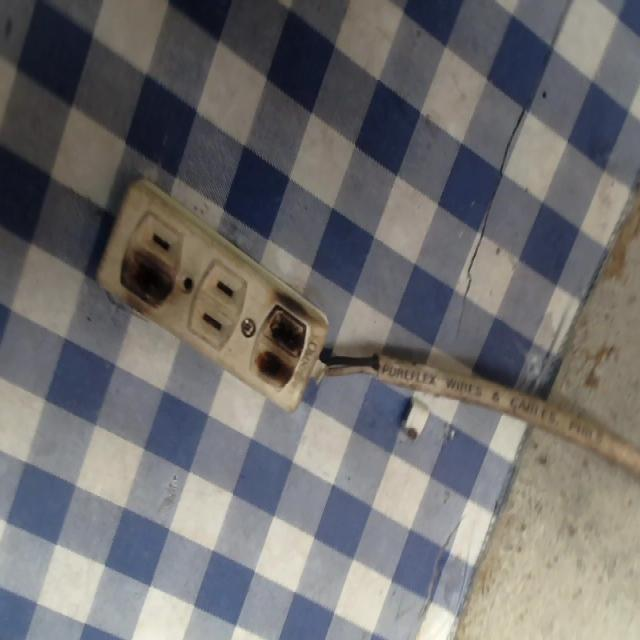-: (252, 283, 312, 397), (117, 245, 180, 312)
